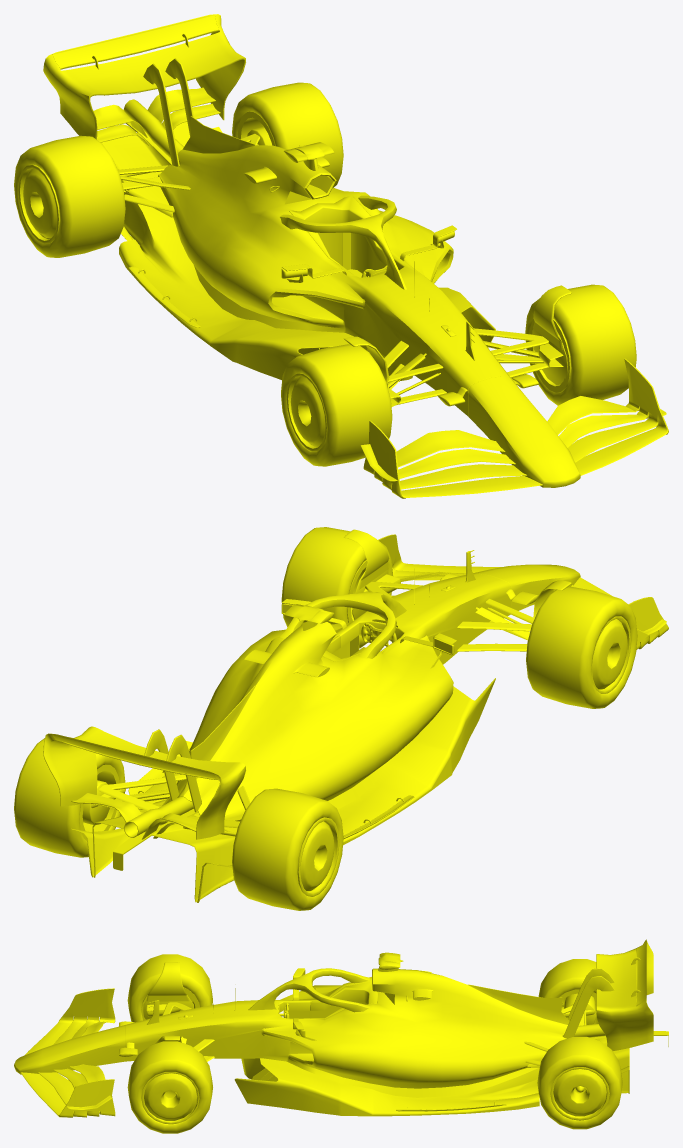
The model's file is F1PS_F1_Car_V09.glb.
The picture shows the model from 3 angles, top to bottom: view 1: azimuth 30°, elevation 25°; view 2: azimuth 150°, elevation 25°; view 3: azimuth 270°, elevation 25°; orthographic projection. The views are drawn at different scales.
Parts seen in each view (by area): view 1: F1PS_F1_Car_Customizable, F1PS_F1_Car_Static; view 2: F1PS_F1_Car_Customizable, F1PS_F1_Car_Static; view 3: F1PS_F1_Car_Customizable, F1PS_F1_Car_Static.
Boxes of the visible parts, x1,y1,x2,y2 form: F1PS_F1_Car_Customizable: (23,14,668,498); F1PS_F1_Car_Static: (14,34,636,466); F1PS_F1_Car_Customizable: (43,534,668,890); F1PS_F1_Car_Static: (14,527,637,910); F1PS_F1_Car_Customizable: (14,939,653,1120); F1PS_F1_Car_Static: (119,952,668,1133).
Size of the model in its own units: 2.2 by 1.15 by 5.52.
2 materials, 2 textured.
